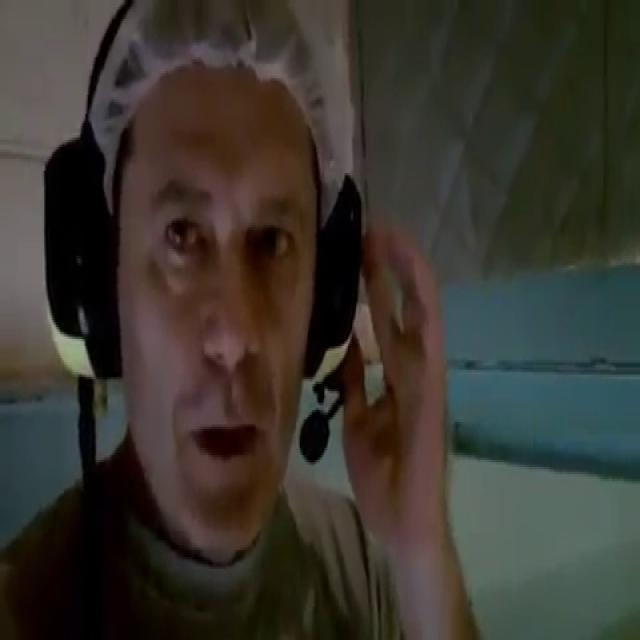earmuff: (41, 138, 126, 384), (302, 170, 366, 408)
glasses: (123, 174, 314, 306)
